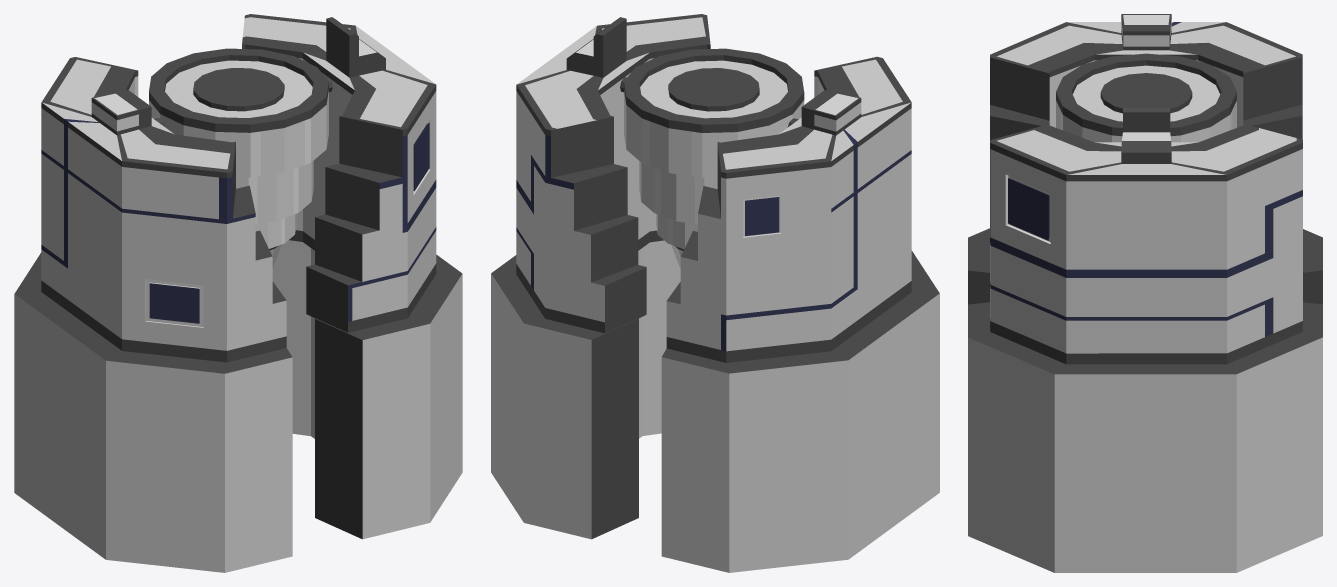
File: SM_GeotermalGenerator.fbx
3 views of the same model, side by side, from view 1: azimuth 30°, elevation 25°; view 2: azimuth 150°, elevation 25°; view 3: azimuth 270°, elevation 25° (orthographic).
Visible parts, largest first — view 1: Cylinder; view 2: Cylinder; view 3: Cylinder.
Part boxes in pixels (box(x1,y1,x2,y2)): Cylinder: box(14, 14, 462, 572); Cylinder: box(491, 14, 939, 572); Cylinder: box(968, 14, 1322, 572).
Bounding box in the file's own units: 2080 × 2400 × 1796.
